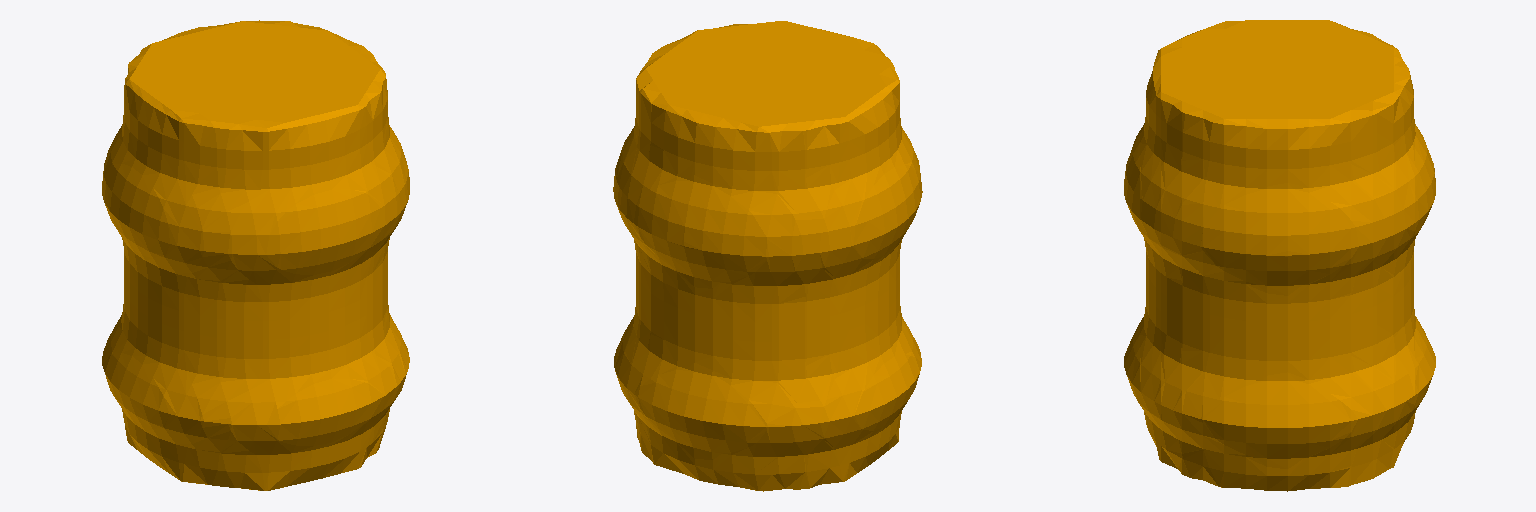
URDF robot description (cylinder_../../meshes/cylinders/cylinder_109.stl):
<?xml version="1.0" encoding="utf-8"?>  <robot name="cylinder_../../meshes/cylinders/cylinder_109.stl">   <link name="cylinder_../../meshes/cylinders/cylinder_109.stl">     <visual>       <geometry>         <mesh filename="../meshes/cylinders/cylinder_109.stl" scale="1 1 1"/>       </geometry>     </visual>     <collision>       <geometry>         <mesh filename="../meshes/cylinders/cylinder_109.stl" scale="1 1 1"/>       </geometry>     </collision>     <inertial>        <origin         xyz="0 0 0"         rpy="0 0 0" />       <mass value="0.33311901425138574"/>       <origin rpy="0 0 0" xyz="0 0 0"/>       <inertia ixx="0.0003413990519049848" ixy="-5.19640988111713e-08" ixz="-3.3712336264192235e-08" iyy="0.00034139851300485965" iyz="-1.7091313551277965e-08" izz="0.00018636858760810095"/>     </inertial>   </link>  </robot>

--- Facts derived from the render (not from the file) ---
Views: 3 orthographic renders of the robot side by side, from view 1: azimuth 30°, elevation 25°; view 2: azimuth 150°, elevation 25°; view 3: azimuth 270°, elevation 25°.
Model cylinder_../../meshes/cylinders/cylinder_109.stl with 1 links and 0 joints (none), rooted at cylinder_../../meshes/cylinders/cylinder_109.stl, posed every joint at zero.
Links seen in each view (by area): view 1: cylinder_../../meshes/cylinders/cylinder_109.stl; view 2: cylinder_../../meshes/cylinders/cylinder_109.stl; view 3: cylinder_../../meshes/cylinders/cylinder_109.stl.
Link boxes in pixels (left/top/right/bottom): cylinder_../../meshes/cylinders/cylinder_109.stl: left=102, top=20, right=409, bottom=490; cylinder_../../meshes/cylinders/cylinder_109.stl: left=613, top=21, right=922, bottom=491; cylinder_../../meshes/cylinders/cylinder_109.stl: left=1124, top=20, right=1435, bottom=491.
Bounding box of the posed robot: 0.0739 × 0.0739 × 0.0962 m (x, y, z).
1 mesh visuals loaded from 1 distinct referenced files (1 binary STL).